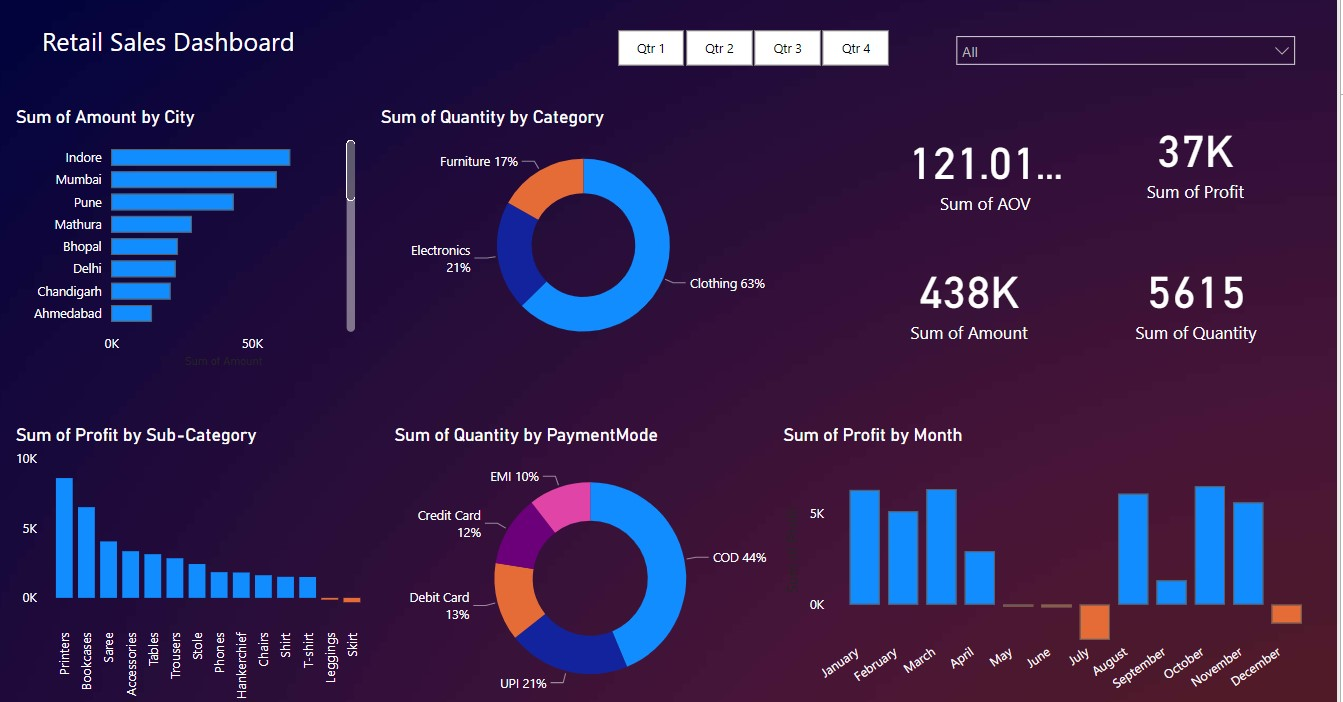

The page's visual inventory and layout, read from the dashboard file:
{"tool":"powerbi","page":{"name":"Page 1","canvas":[1280,720],"ordinal":0},"visuals":[{"type":"clusteredColumnChart","fields":{"Y":["Sum(Details.Profit)"],"Category":["Orders.Order Date.Variation.Date Hierarchy.Month"]},"box":[747.4,409.4,518.9,274.9],"z":0},{"type":"textbox","box":[41.7,23.8,367.7,51.2],"z":1000},{"type":"columnChart","fields":{"Category":["Details.Sub-Category"],"Y":["Sum(Details.Profit)"]},"box":[16.7,409.4,347.5,283.2],"z":2000},{"type":"donutChart","fields":{"Y":["Sum(Details.Quantity)"],"Category":["Details.Category"]},"box":[364.2,107.1,396.3,245.2],"z":3000},{"type":"donutChart","fields":{"Y":["Sum(Details.Quantity)"],"Category":["Details.PaymentMode"]},"box":[377.3,409.4,383.2,274.9],"z":4000},{"type":"card","fields":{"Values":["Sum(Details.Amount)"]},"box":[852.1,241.6,154.7,97.6],"z":5000},{"type":"card","fields":{"Values":["Sum(Details.Profit)"]},"box":[1067.5,107.1,154.7,97.6],"z":6000},{"type":"card","fields":{"Values":["Sum(Details.Quantity)"]},"box":[1068.7,242.8,153.5,96.4],"z":7000},{"type":"card","fields":{"Values":["Sum(Details.AOV)"]},"box":[866.4,119,157.1,97.6],"z":8000},{"type":"barChart","fields":{"Category":["Orders.City"],"Y":["Sum(Details.Amount)"]},"box":[16.7,107.1,333.2,253.5],"z":9000},{"type":"slicer","fields":{"Values":["Orders.Order Date.Variation.Date Hierarchy.Quarter"]},"box":[568.9,27.4,308.2,47.6],"z":10000},{"type":"slicer","fields":{"Values":["Orders.City"]},"box":[906.8,29.8,342.7,89.3],"z":11000}]}

Visuals, with their boxes on the page's 1280x720 design canvas (x1, y1, x2, y2). These are canvas units, not pixel positions in the 1343x702 screenshot, which may show the page scaled, cropped or inside an application window:
clusteredColumnChart - Sum(Details.Profit) x Orders.Order Date.Variation.Date Hierarchy.Month: 747/409/1266/684
textbox: 42/24/409/75
columnChart - Details.Sub-Category x Sum(Details.Profit): 17/409/364/693
donutChart - Sum(Details.Quantity) x Details.Category: 364/107/760/352
donutChart - Sum(Details.Quantity) x Details.PaymentMode: 377/409/760/684
card - Sum(Details.Amount): 852/242/1007/339
card - Sum(Details.Profit): 1068/107/1222/205
card - Sum(Details.Quantity): 1069/243/1222/339
card - Sum(Details.AOV): 866/119/1024/217
barChart - Orders.City x Sum(Details.Amount): 17/107/350/361
slicer - Orders.Order Date.Variation.Date Hierarchy.Quarter: 569/27/877/75
slicer - Orders.City: 907/30/1250/119
